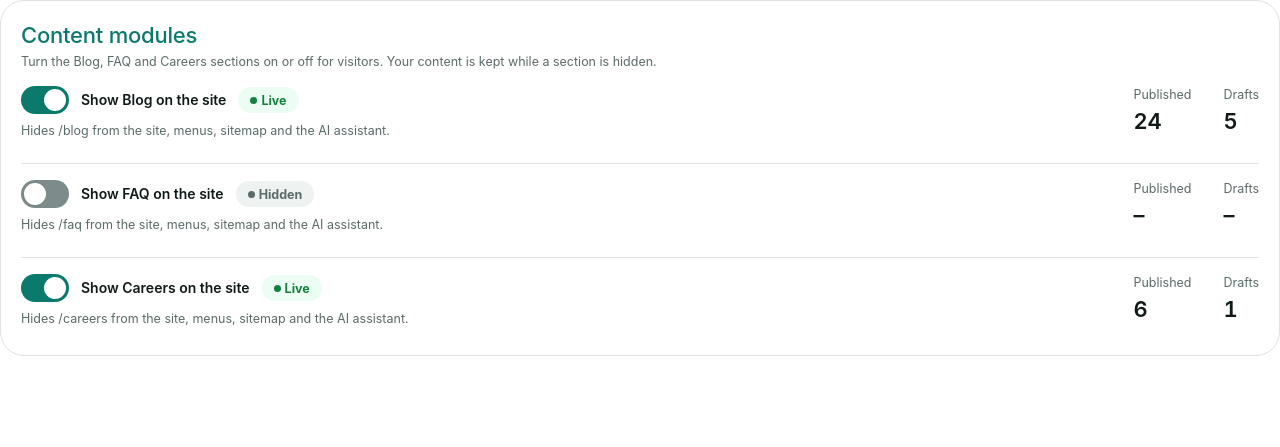
Test: the Content modules card, connected (ADR-143) › keeps the switch as it was and says why when the save fails
Step 1. Click the switch named "Show FAQ on the site" next to "Show FAQ on the site" → (45, 194), box [21,180,69,208]
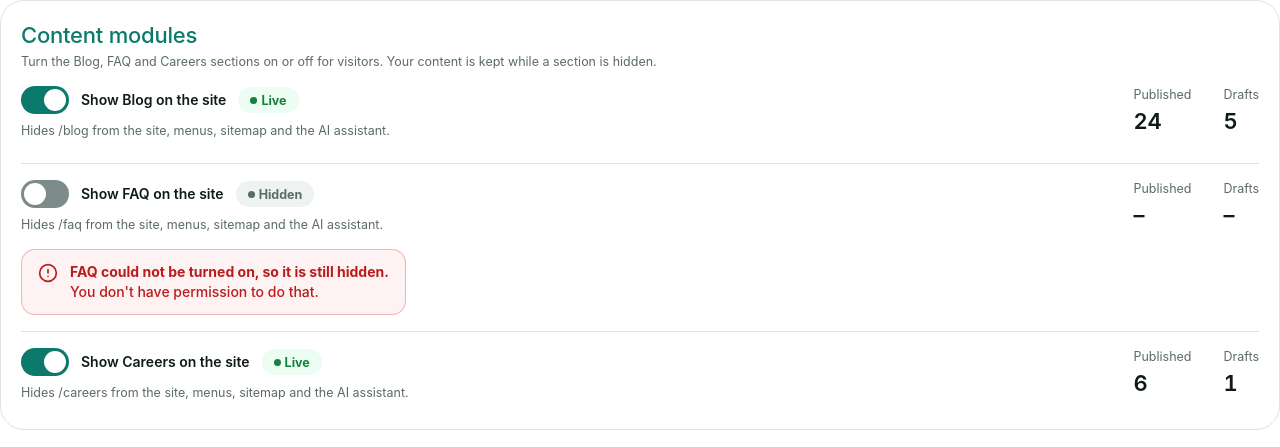
Expected: the text "FAQ could not be turned on, so it is still hidden." is shown, [70,262,389,282]
Expected: the text "You don't have permission to do that." is shown, [70,283,319,300]
